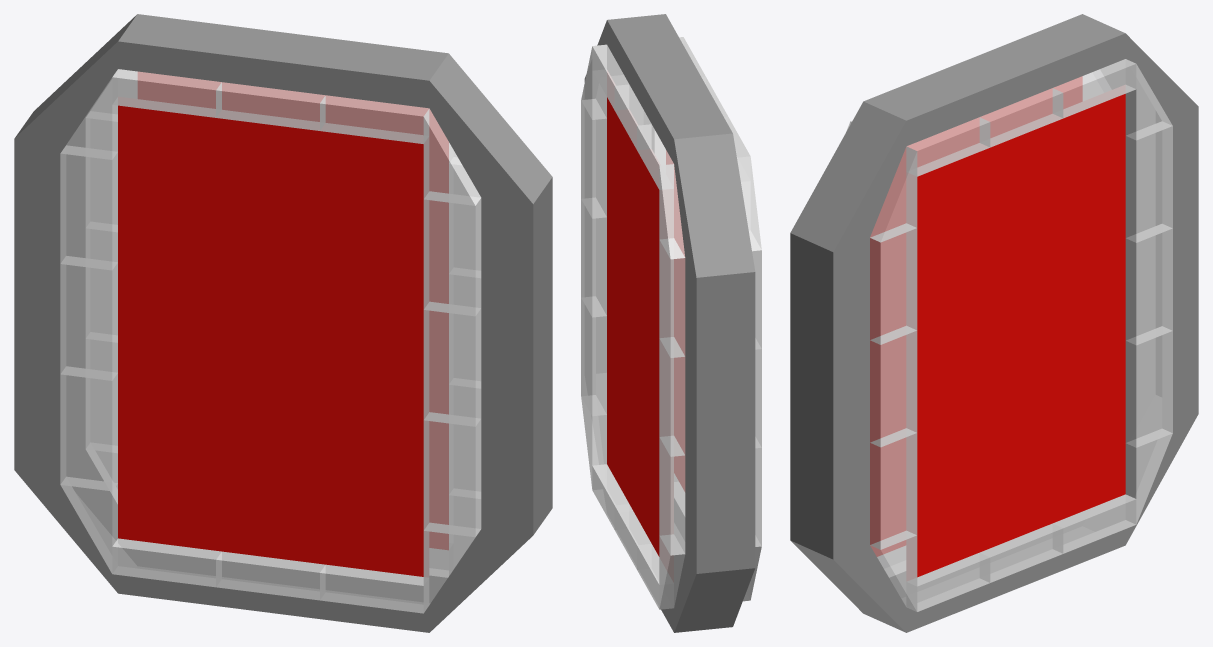
The model's file is coinRed.fbx.
The picture shows the model from 3 angles, left to right: view 1: azimuth 30°, elevation 25°; view 2: azimuth 150°, elevation 25°; view 3: azimuth 270°, elevation 25°; orthographic projection. The views are drawn at different scales.
Parts seen in each view (by area): view 1: Cube; view 2: Cube; view 3: Cube.
Boxes of the visible parts, bbox=[...] form: Cube: bbox=[14, 14, 552, 632]; Cube: bbox=[581, 14, 761, 632]; Cube: bbox=[790, 14, 1198, 632].
Size of the model in its own units: 62.19 by 90 by 65.03.
